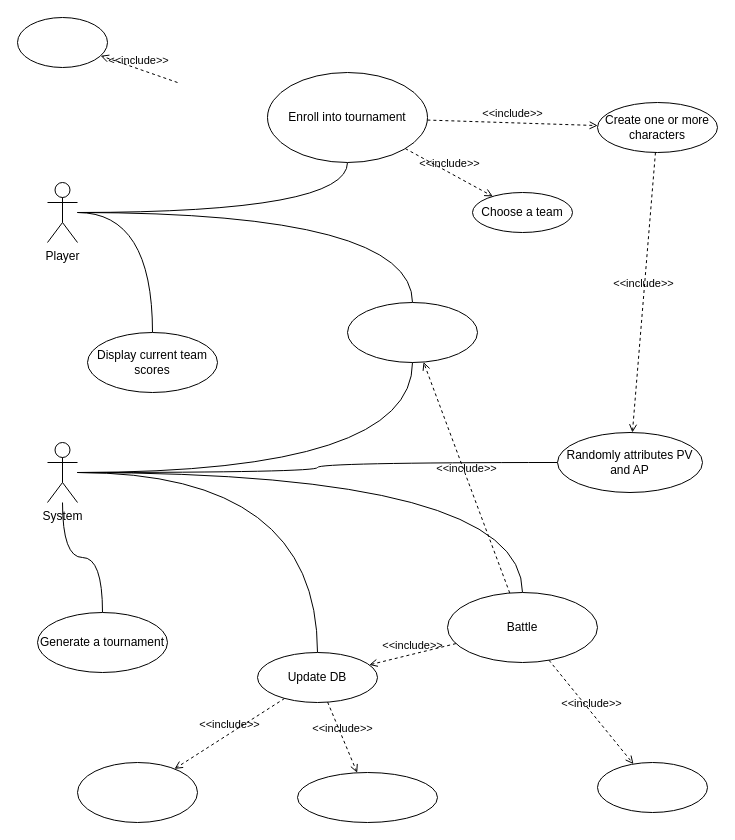
Some shapes in this 735 by 840 pixel diagram are drawn without their labels. The box of each missing label's shape, as (x1, y1, x2, y2) in pixels:
Be logged in: (16, 16, 108, 68)
Choose character to fight one battle: (346, 302, 478, 362)
Compute points: (596, 762, 708, 812)
Update the character's status to false: (296, 772, 438, 822)
Update winning team's score: (76, 762, 198, 822)
